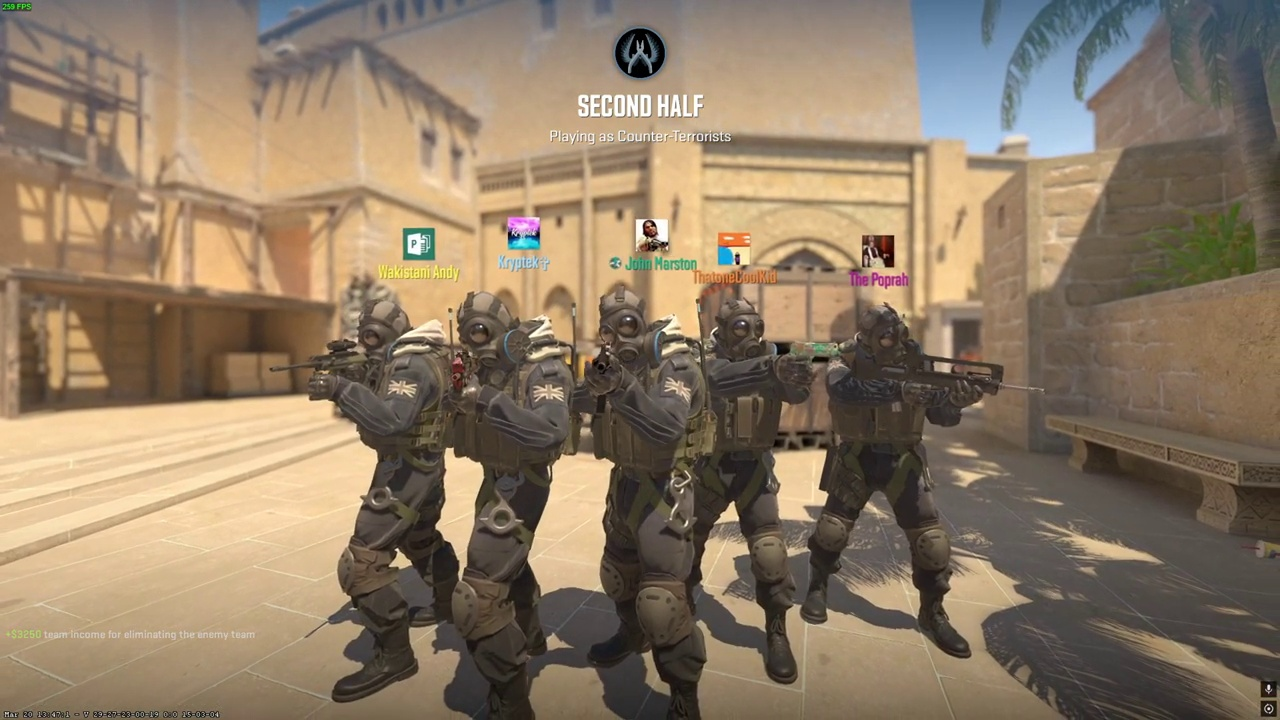CT: (800, 302, 994, 651), (567, 286, 717, 720), (432, 291, 583, 720), (311, 299, 460, 703), (687, 297, 813, 685)
